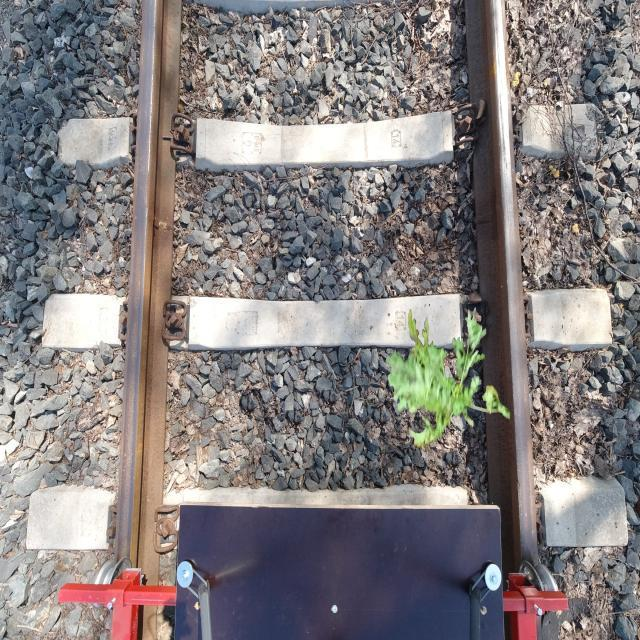Plant: (386, 307, 511, 454)
